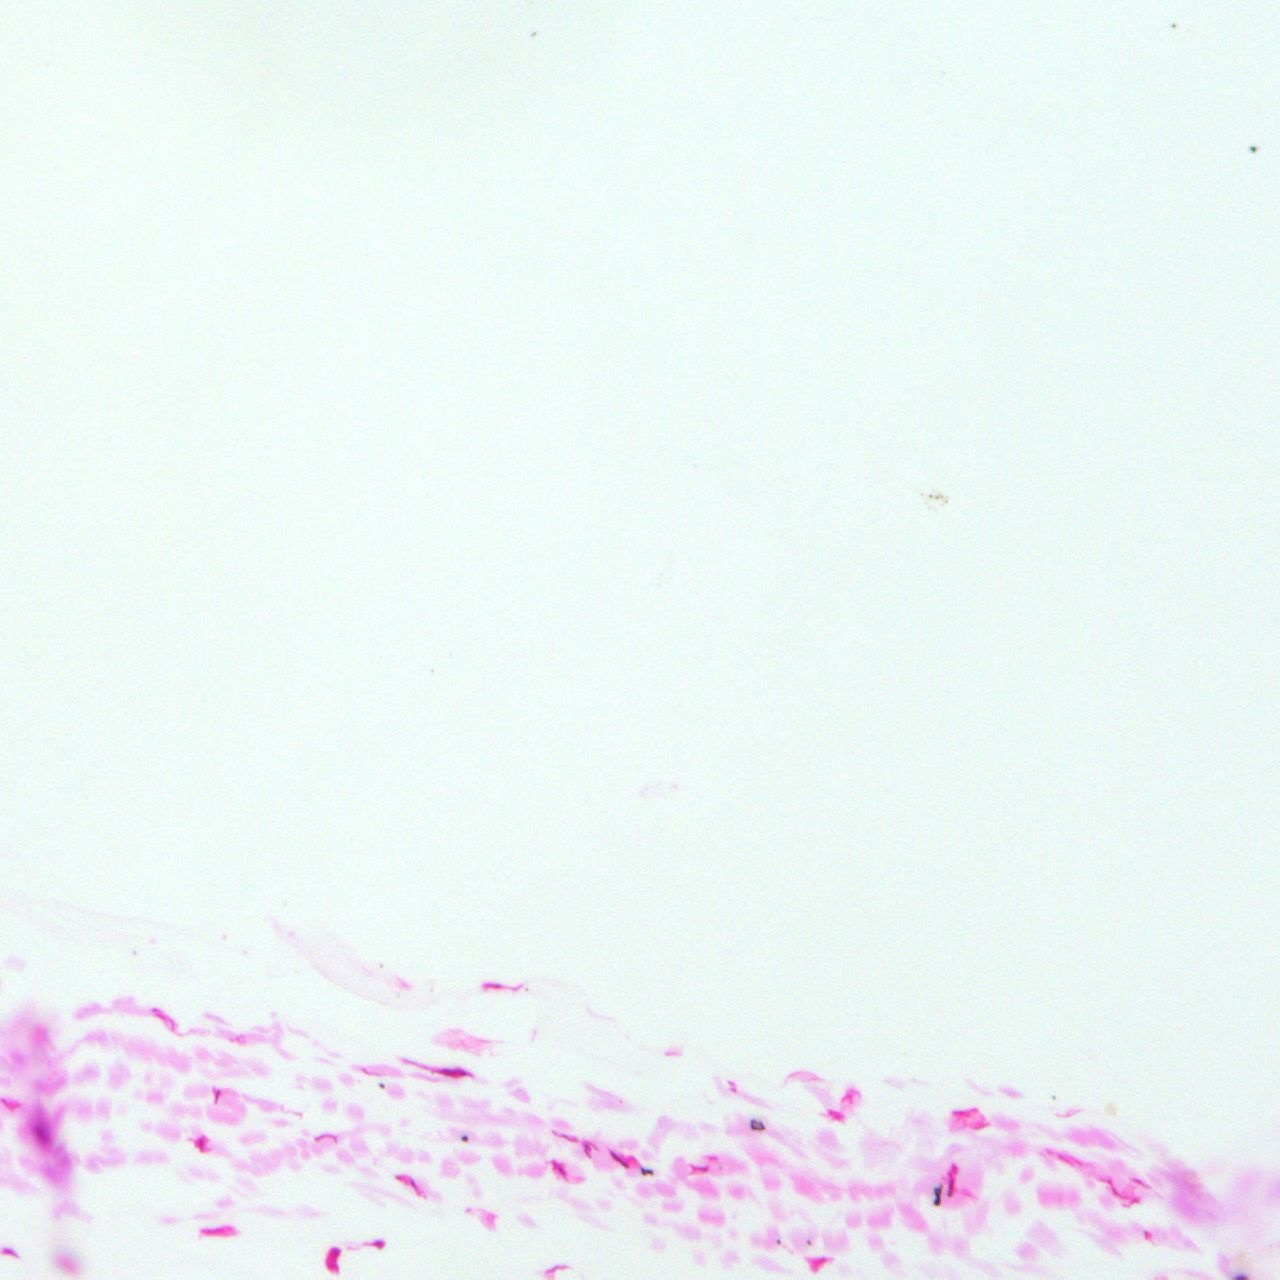dust: (917, 490, 949, 513), (747, 1118, 765, 1131), (933, 1187, 941, 1206), (640, 1167, 653, 1176), (1250, 143, 1257, 157), (459, 1133, 469, 1142), (1169, 21, 1177, 29), (805, 1238, 811, 1246), (530, 30, 536, 38), (775, 1239, 781, 1245), (377, 1083, 384, 1088), (1051, 1092, 1056, 1099), (428, 988, 435, 993), (524, 987, 529, 992), (132, 949, 136, 955), (395, 993, 399, 998), (379, 964, 383, 967)
nucleus-FG: (1097, 1173, 1131, 1203), (434, 1063, 474, 1080), (551, 1159, 568, 1182), (610, 1151, 629, 1170), (808, 1254, 829, 1271), (550, 1131, 579, 1143), (328, 1247, 340, 1274), (1130, 1175, 1150, 1190), (546, 1262, 572, 1274), (1057, 1153, 1075, 1167), (312, 1133, 338, 1143), (195, 1135, 206, 1153), (409, 1178, 421, 1197), (828, 1109, 844, 1122), (481, 982, 503, 992), (973, 1121, 989, 1131), (1, 1246, 16, 1257), (369, 1239, 384, 1250), (361, 1069, 380, 1076), (200, 1227, 223, 1233), (213, 1087, 220, 1104), (584, 1141, 591, 1158), (692, 1166, 709, 1173), (948, 1177, 954, 1197), (704, 1155, 720, 1162), (951, 1109, 968, 1115), (395, 1175, 406, 1183), (169, 1019, 175, 1032), (156, 1013, 165, 1020), (1143, 1230, 1149, 1240), (952, 1164, 956, 1175), (1131, 1197, 1139, 1203)
